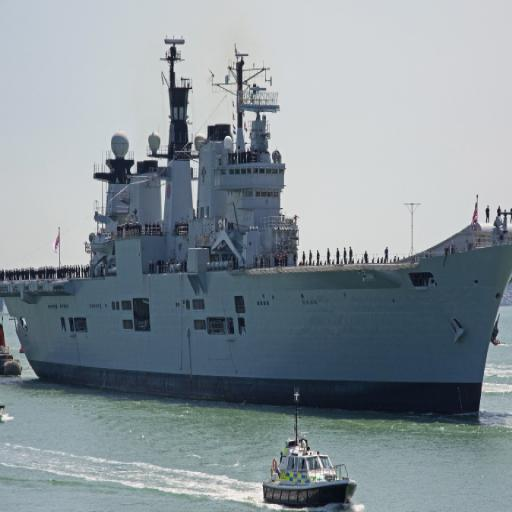Portanaves: (1, 28, 512, 428)
